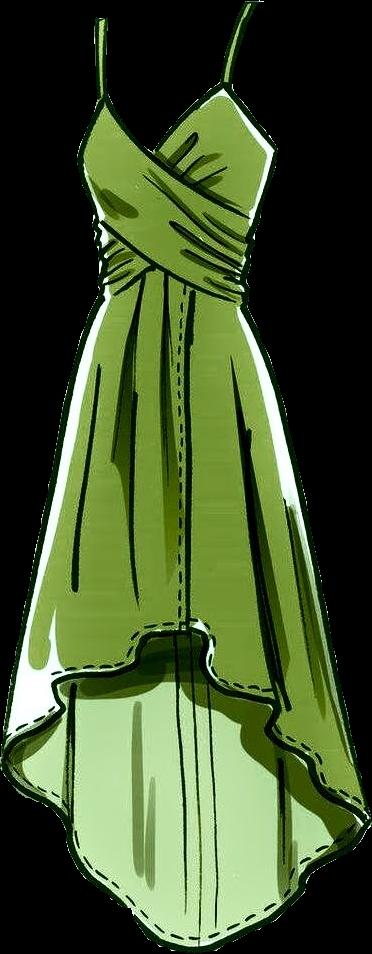Bodice: (77, 0, 277, 305)
Hemline: (0, 627, 371, 828)
Neckline: (96, 0, 256, 163)
Skirt: (1, 268, 370, 949)
Waistline: (91, 258, 248, 313)
